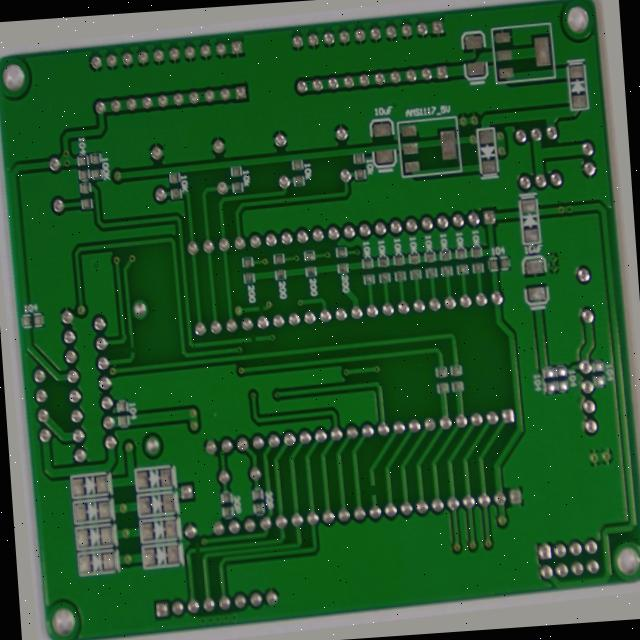open_circuit: (363, 490, 377, 510), (181, 547, 195, 561), (121, 334, 132, 349), (255, 298, 265, 312), (246, 331, 256, 344)
